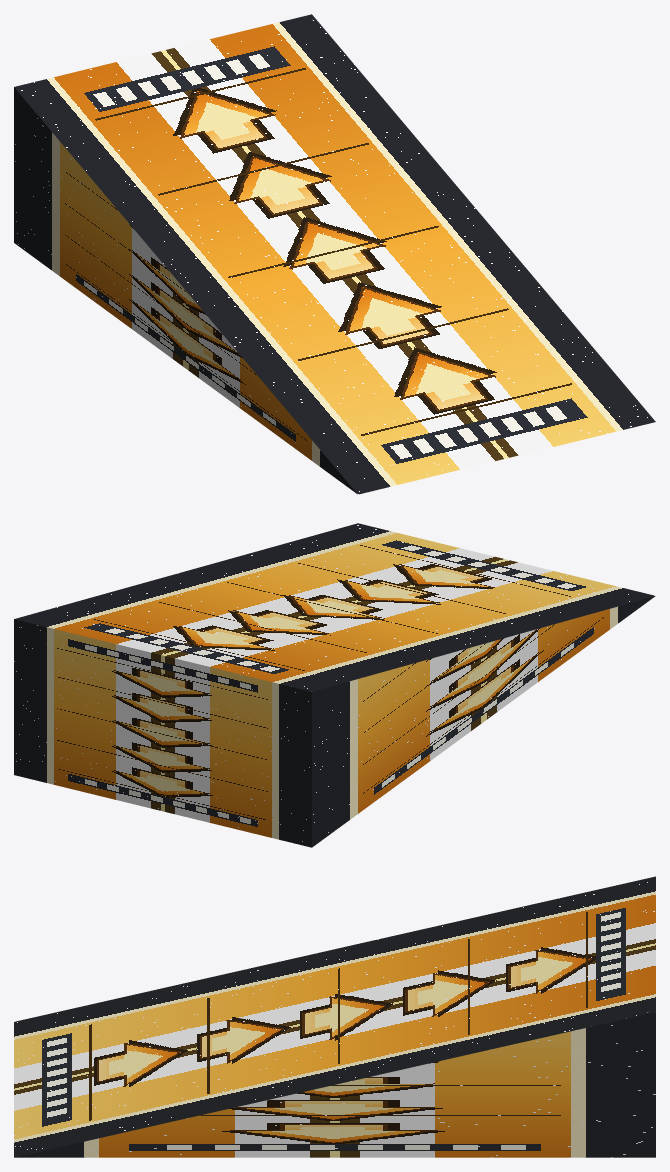
File: Ramp_01c.glb
3 renders of one model, top to bottom at view 1: azimuth 30°, elevation 25°; view 2: azimuth 150°, elevation 25°; view 3: azimuth 270°, elevation 25°, orthographic. The views are drawn at different scales.
Parts seen in each view (by area): view 1: Ramp_01_Yellow_Orange_Arrows; view 2: Ramp_01_Yellow_Orange_Arrows; view 3: Ramp_01_Yellow_Orange_Arrows.
Part boxes in pixels (x1=…): Ramp_01_Yellow_Orange_Arrows: x1=14, y1=14, x2=655, y2=494; Ramp_01_Yellow_Orange_Arrows: x1=14, y1=523, x2=655, y2=847; Ramp_01_Yellow_Orange_Arrows: x1=14, y1=876, x2=655, y2=1157.
Size of the model in its own units: 4 by 2 by 8.
1 material, 1 textured.
